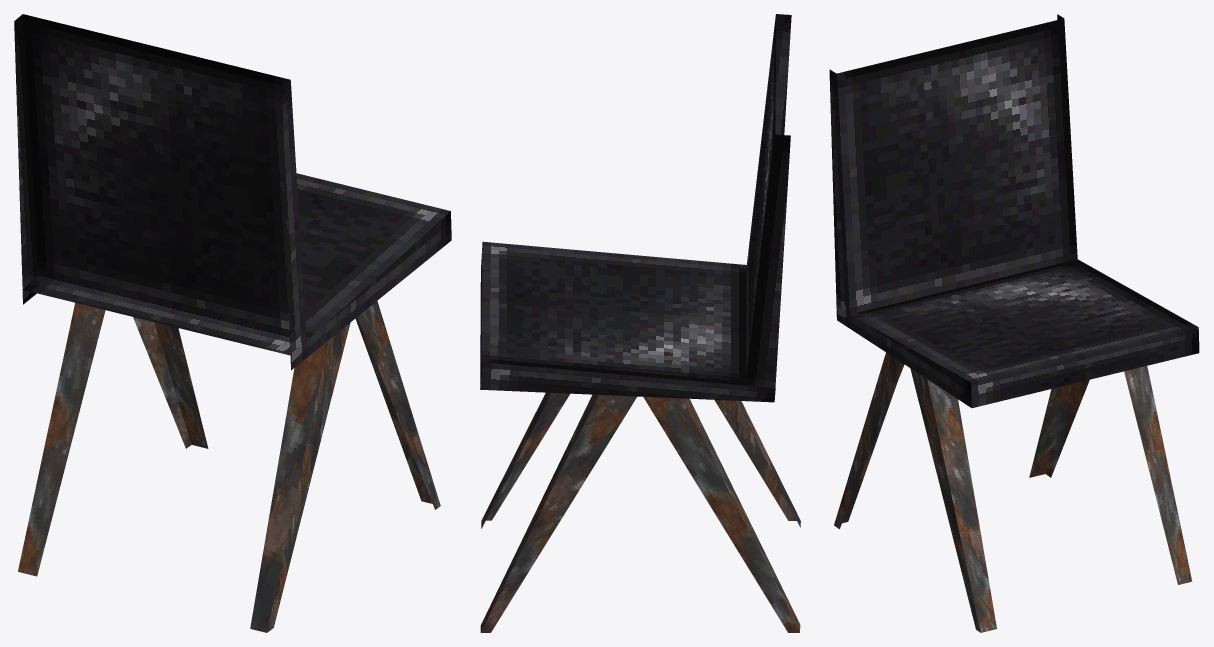
The model's file is primary_011.glb.
The picture shows the model from 3 angles, left to right: view 1: azimuth 30°, elevation 25°; view 2: azimuth 150°, elevation 25°; view 3: azimuth 270°, elevation 25°; orthographic projection. The views are drawn at different scales.
Parts seen in each view (by area): view 1: Object; view 2: Object; view 3: Object.
Boxes of the visible parts, x1,y1,x2,y2 form: Object: (14,14,451,632); Object: (480,14,800,632); Object: (829,14,1199,632).
Bounding box in the file's own units: 0.8653 × 1.16 × 0.8385.
2 materials, 2 textured.
